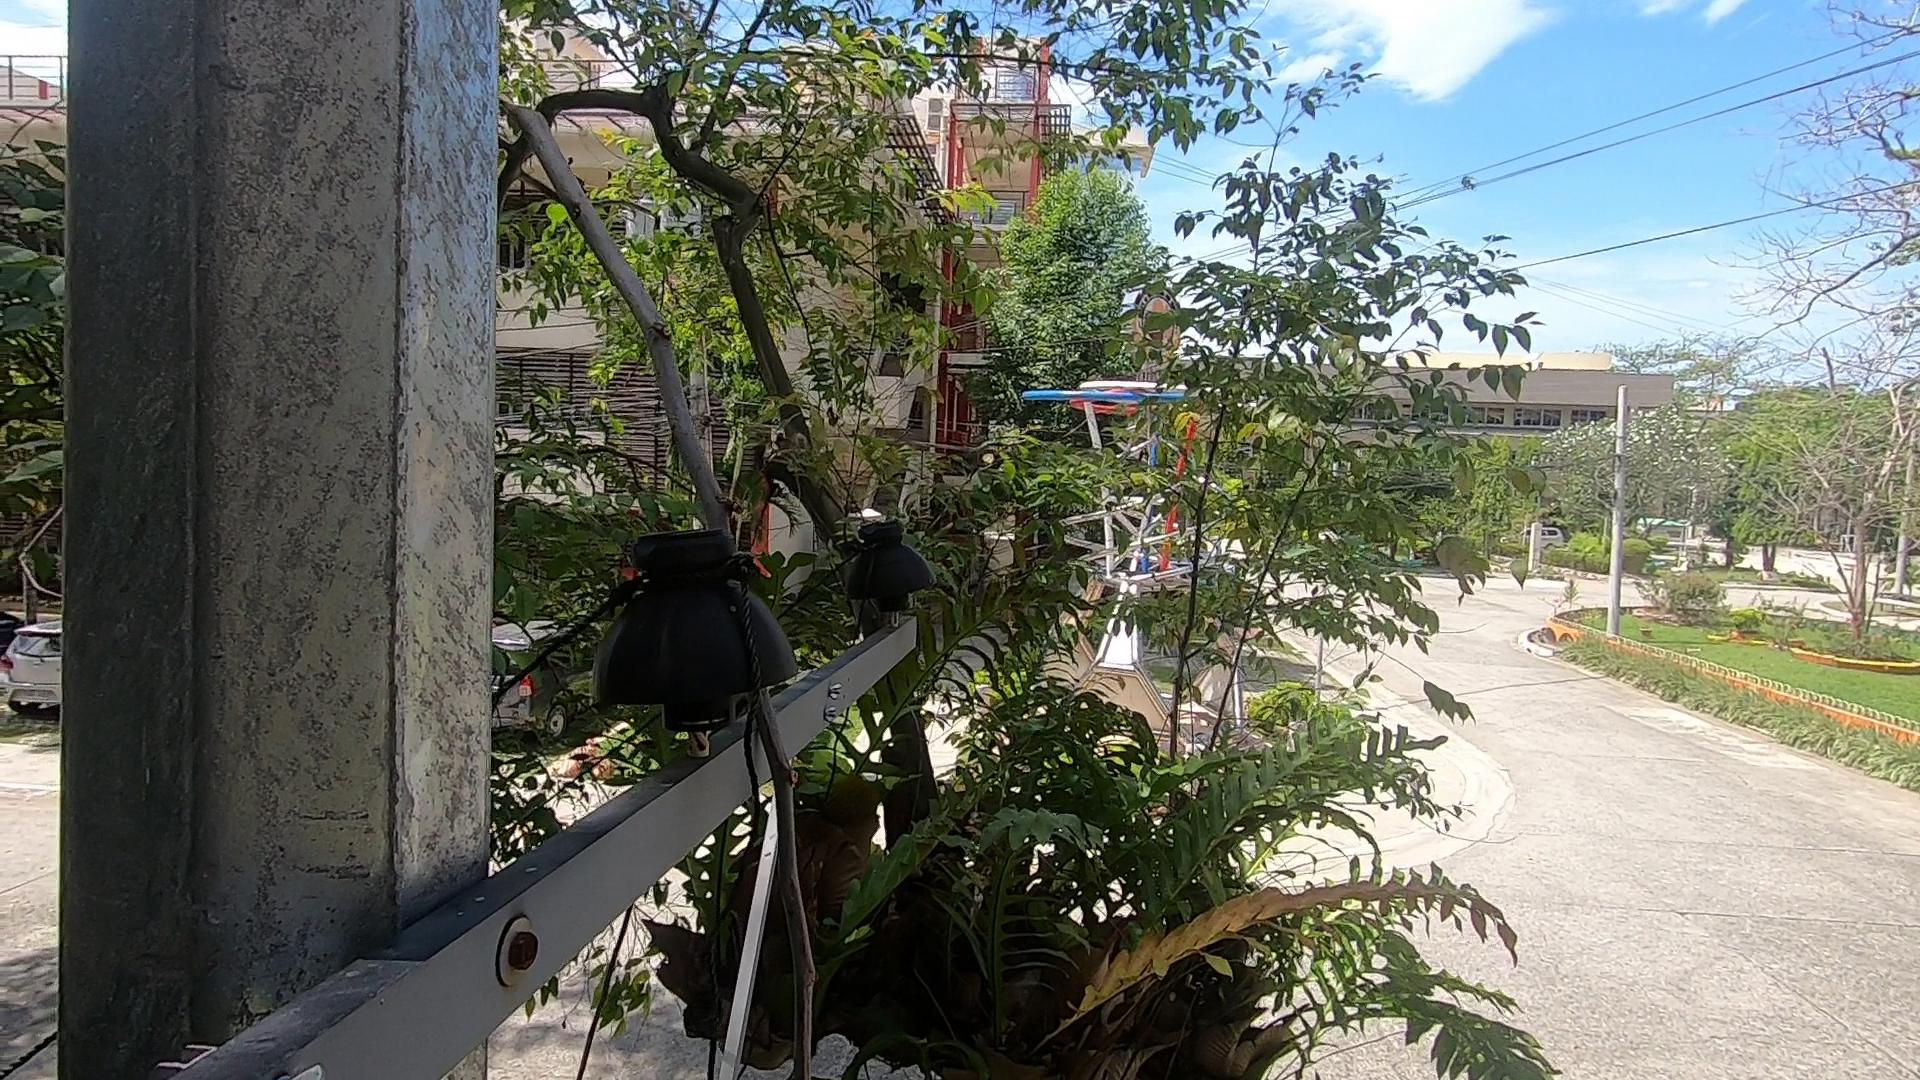tree branch: (498, 78, 922, 1073)
